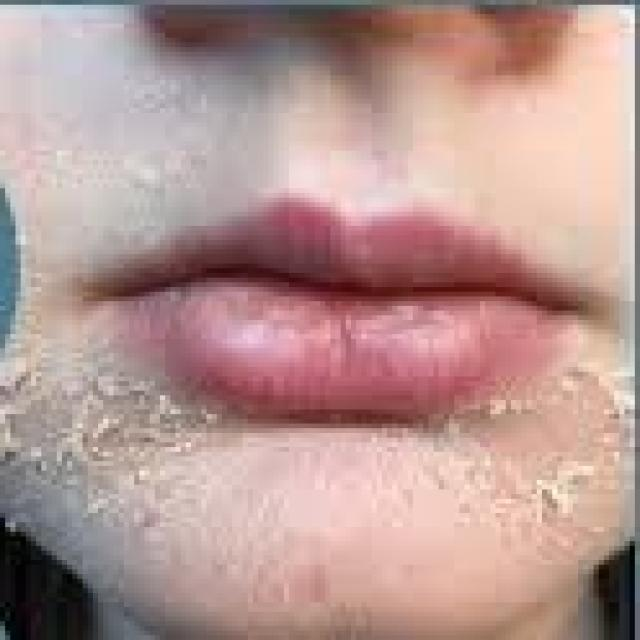flakiness: (425, 348, 634, 544), (1, 356, 204, 518)
